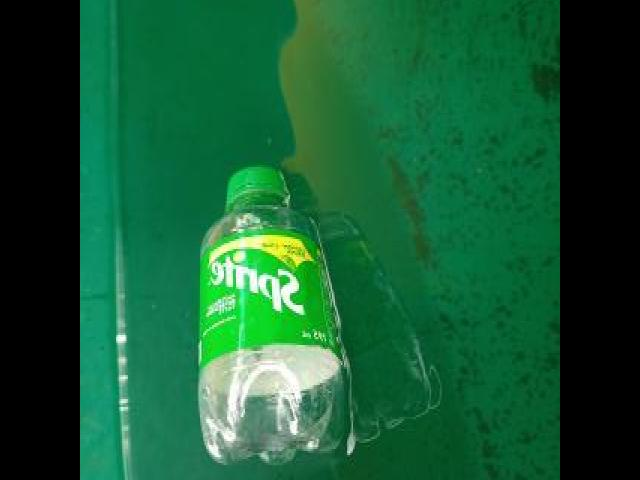Bottle: (192, 156, 354, 476)
